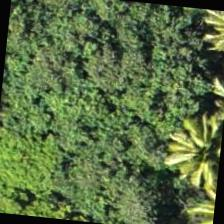Kelapa_Sawit: (154, 104, 224, 202), (178, 7, 223, 81)
